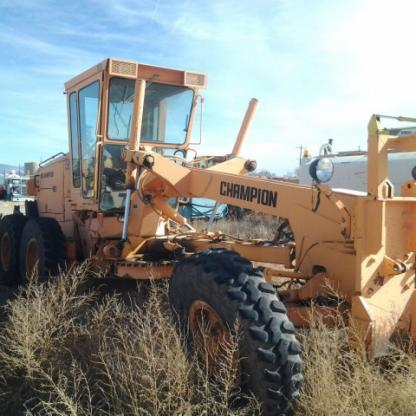bull_dozer/loader/grader: (2, 51, 416, 409)
